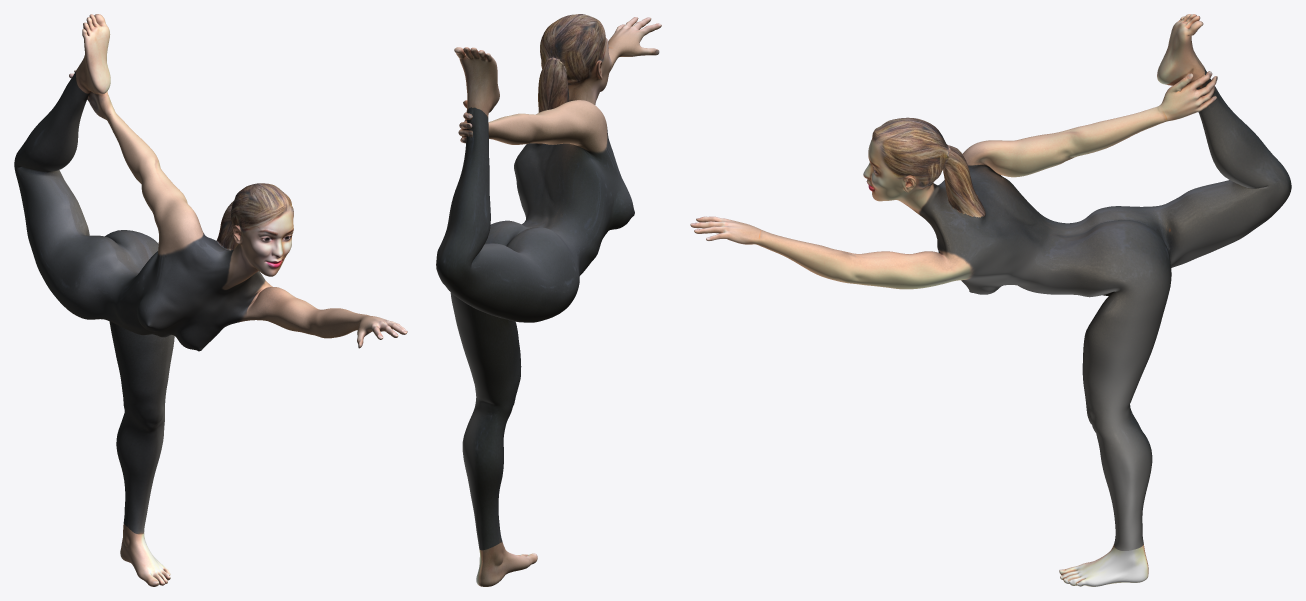
The picture shows the model from 3 angles, left to right: view 1: azimuth 30°, elevation 25°; view 2: azimuth 150°, elevation 25°; view 3: azimuth 270°, elevation 25°; orthographic projection. The views are drawn at different scales.
Parts seen in each view (by area): view 1: yoga_pose; view 2: yoga_pose; view 3: yoga_pose.
Part boxes in pixels (x1,y1,x2,y2): yoga_pose: (14, 14, 407, 586); yoga_pose: (436, 14, 661, 586); yoga_pose: (690, 14, 1291, 586).
Size of the model in its own units: 0.4591 by 1.55 by 1.5.
Materials: 1 (1 with a texture image).
